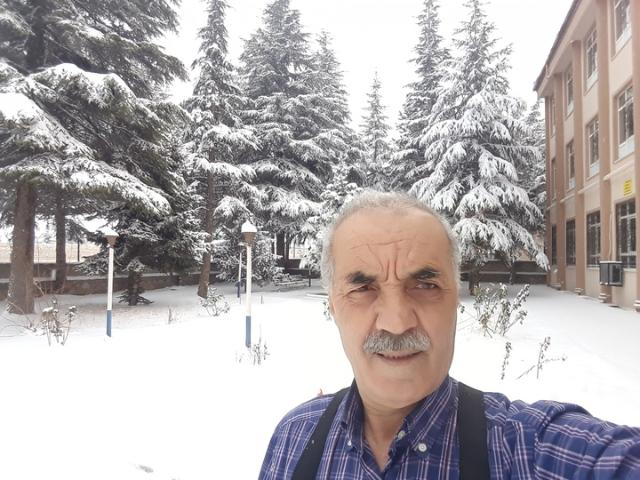crows_feet: (440, 283, 454, 299), (336, 288, 349, 304)
forehead: (372, 233, 400, 249), (352, 237, 374, 254)
frown_line: (382, 262, 402, 290)
gummy_smile: (365, 308, 379, 340), (412, 309, 426, 331)
